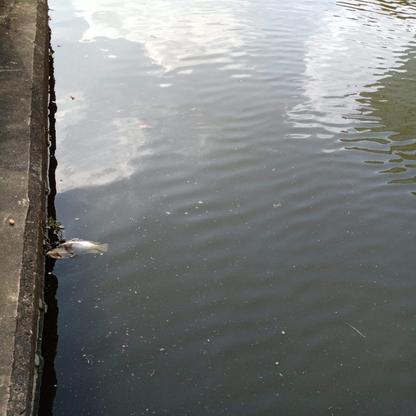deceased fish: (54, 232, 112, 255)
